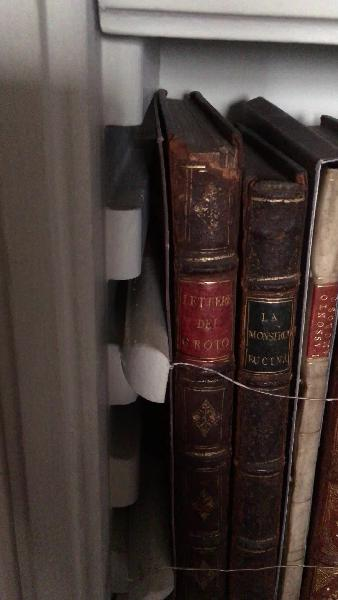Aa6-1: (150, 126, 245, 600)
Aa6-2: (231, 159, 312, 600)
Aa6-3: (269, 121, 336, 600)
